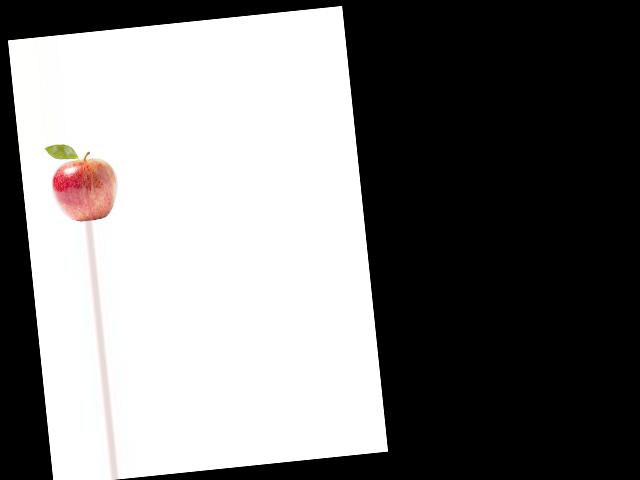apple: (45, 151, 122, 224)
